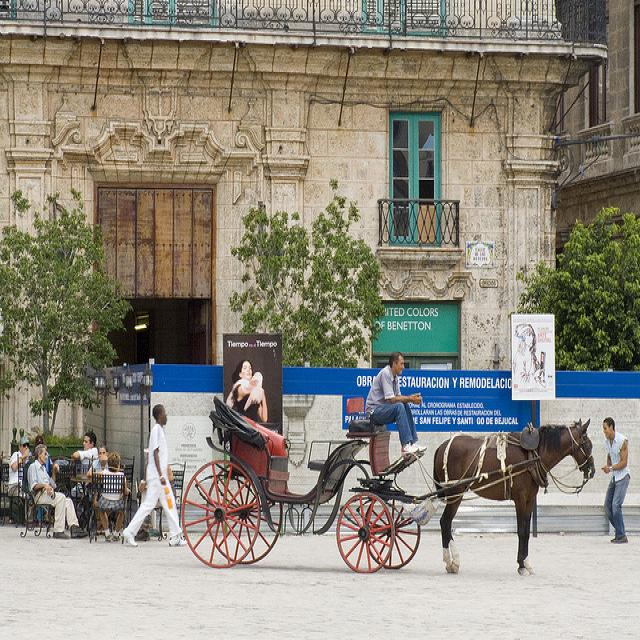chair: (92, 468, 129, 540), (135, 448, 162, 539), (1, 453, 27, 527), (347, 398, 385, 431), (168, 462, 186, 528), (119, 456, 135, 517), (29, 499, 52, 539), (59, 466, 77, 498), (75, 462, 90, 498), (54, 460, 69, 467)
dining table: (68, 475, 96, 483)
